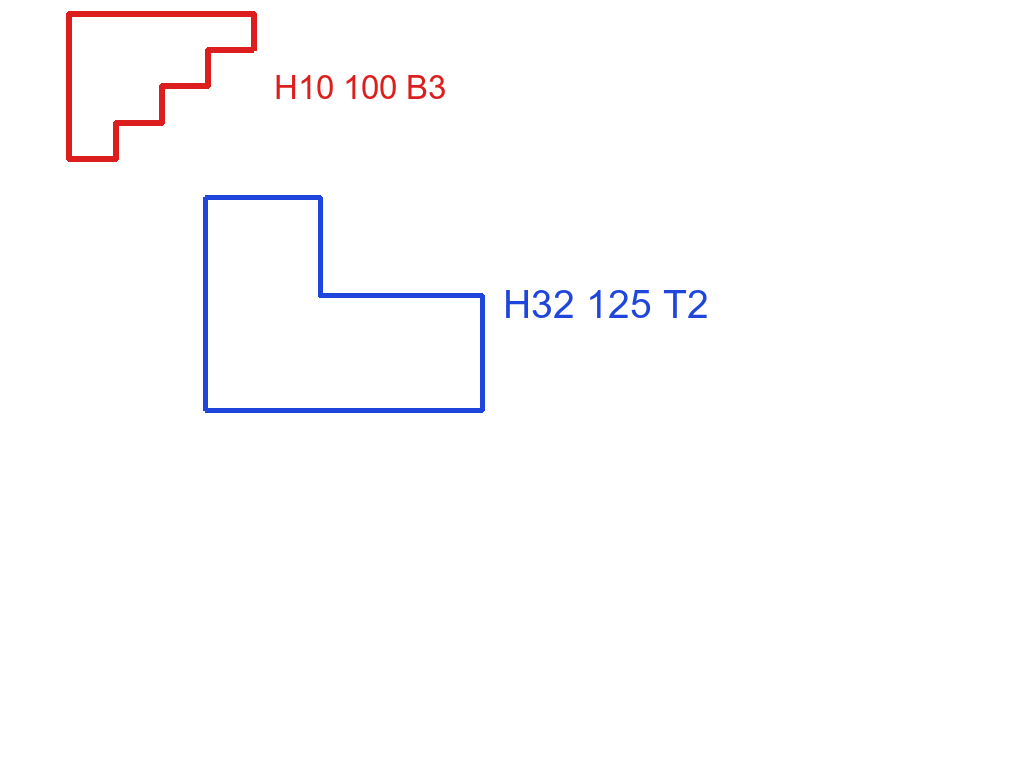shape: (201, 193, 487, 415), (64, 9, 259, 165)
text: (501, 288, 711, 320), (272, 73, 448, 101)
